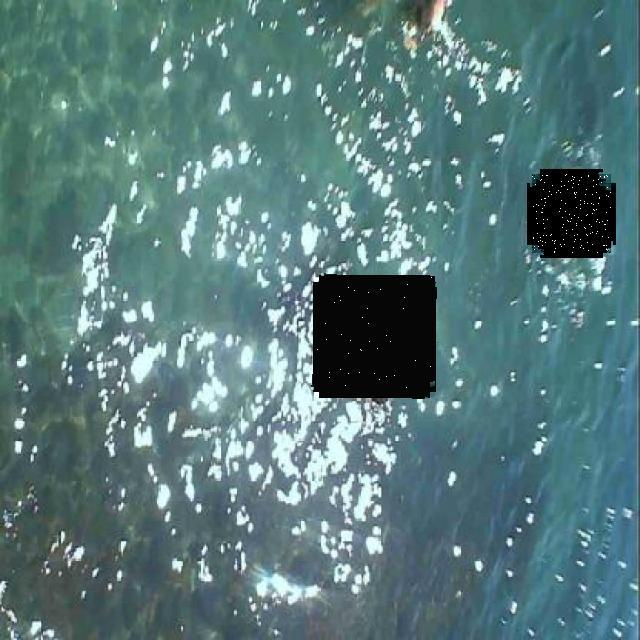swimming: (314, 276, 435, 397), (532, 174, 611, 253)
